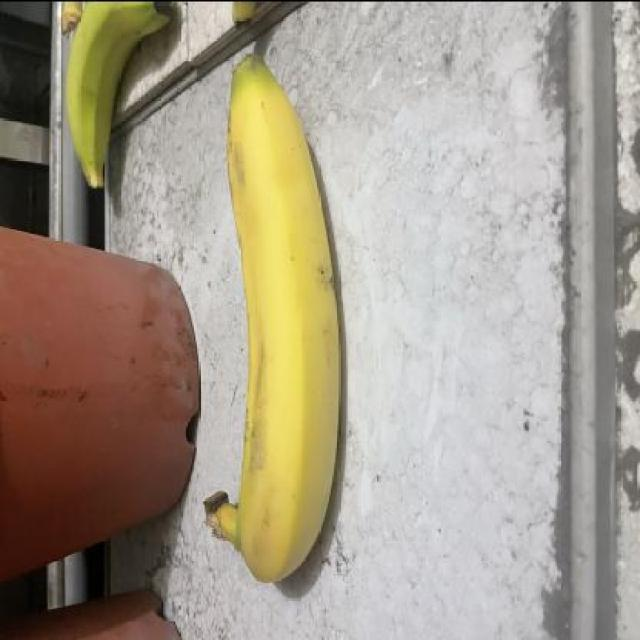Banana: (198, 51, 348, 600), (50, 2, 176, 206)
